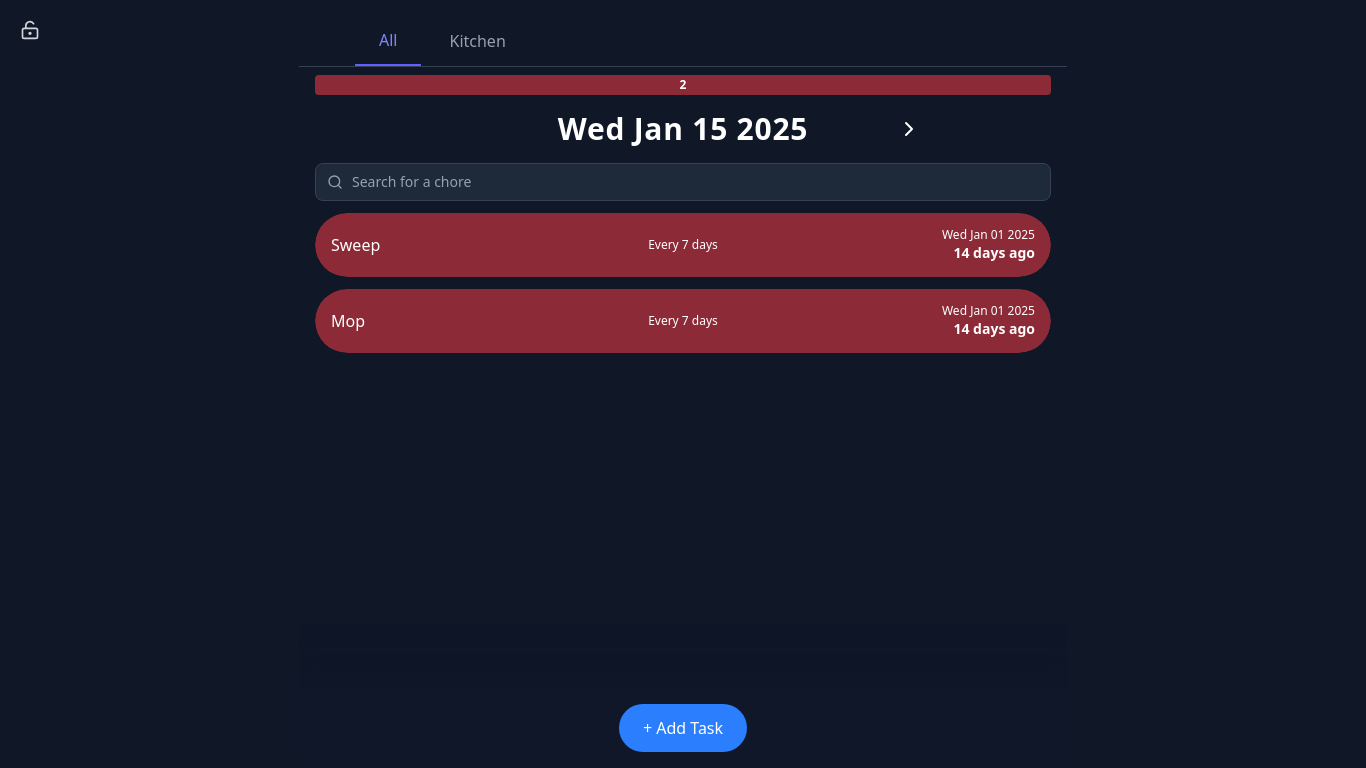
Test: touch lock wiring › (d) search works normally when isLocked is false
The width and height of the screenshot is (1366, 768).
Expected: the text "Sweep" is shown, [331,234,380,256]
Type "mop" into the field with placeholder "Search for a chore" at coordinates (683, 182), box [315,163,1051,201]
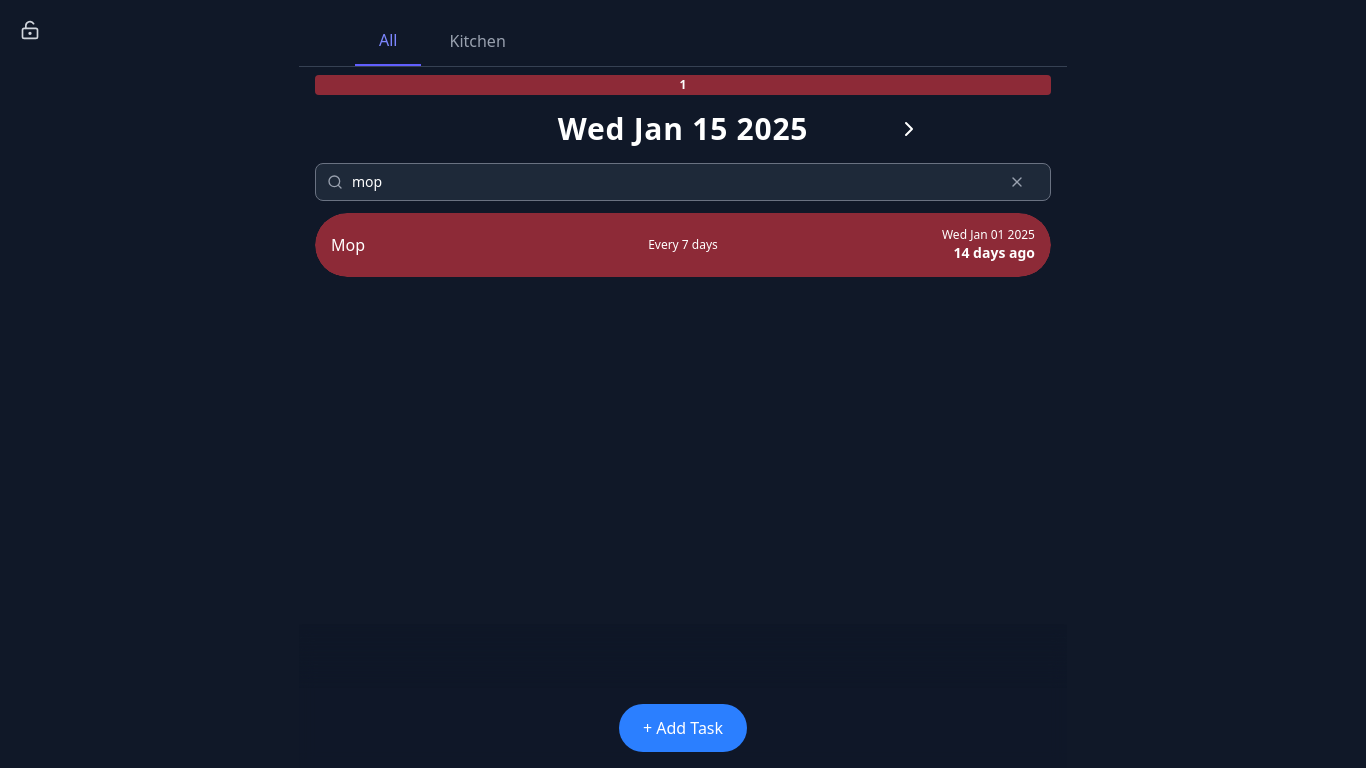
Expected: the text "Mop" is shown, [331,234,365,256]
Expected: the text "Sweep" is gone
